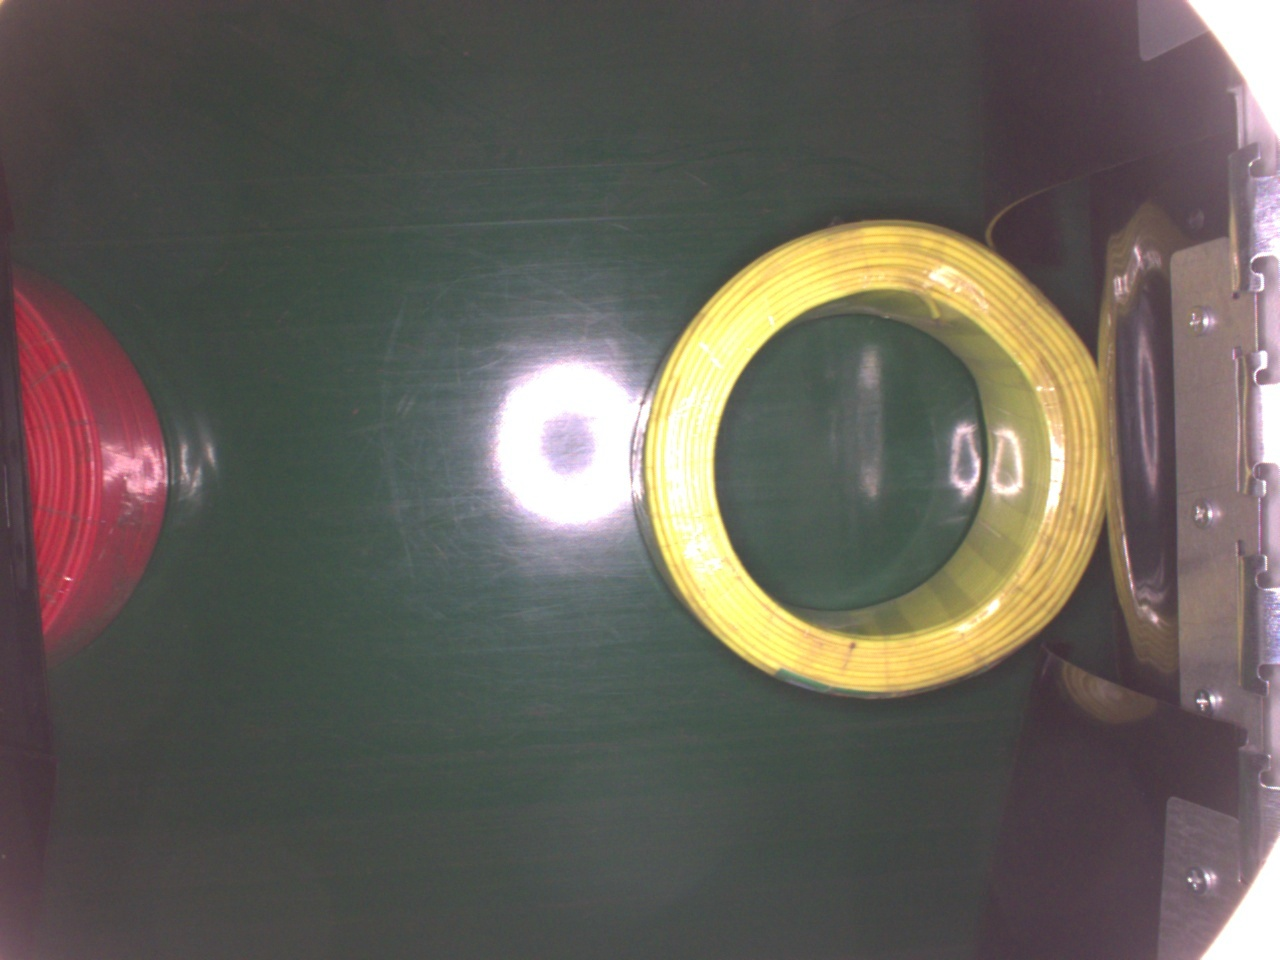red: (12, 261, 170, 661)
yellow: (633, 214, 1109, 700)
